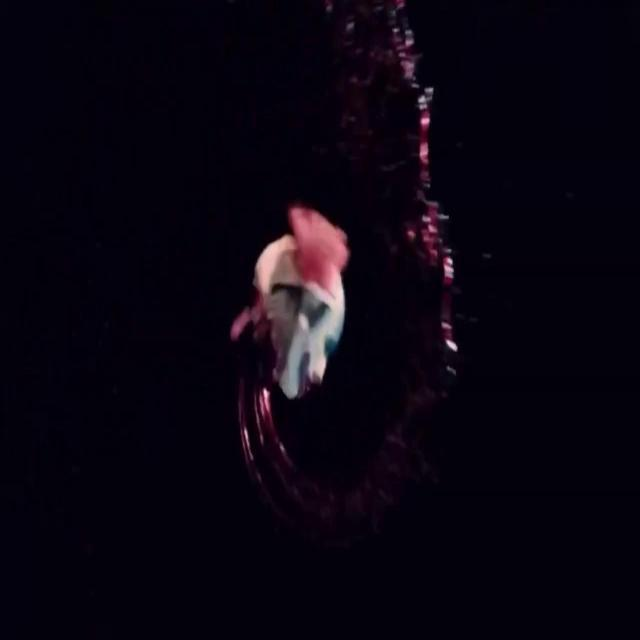flood: (236, 2, 468, 546)
